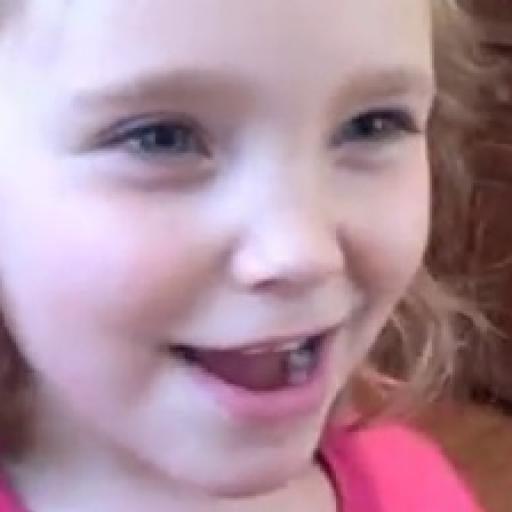Autism: (0, 0, 501, 512)
